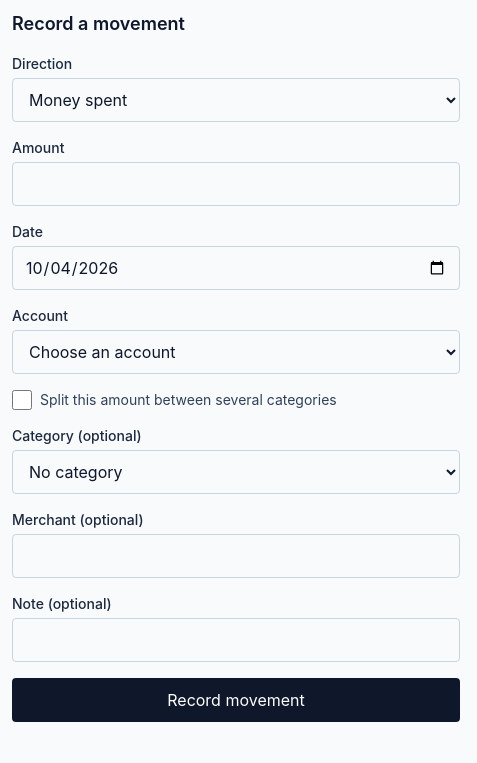
Scenario: TransactionForm › refuses money that is not money, and sends nothing
This screenshot has width=477, height=763.
In the field labelled "Amount": (236, 184) [12,162,460,206], type "abc"
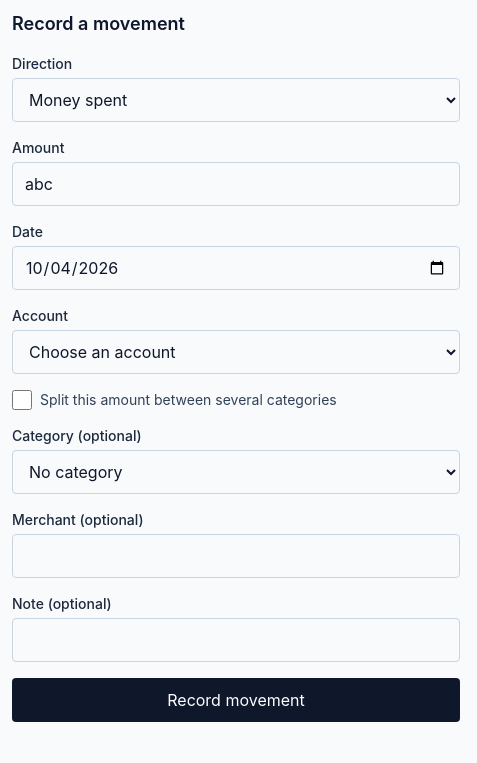
Select "SBI" in the dropdown labelled "Account": (236, 352) [12,330,460,374]
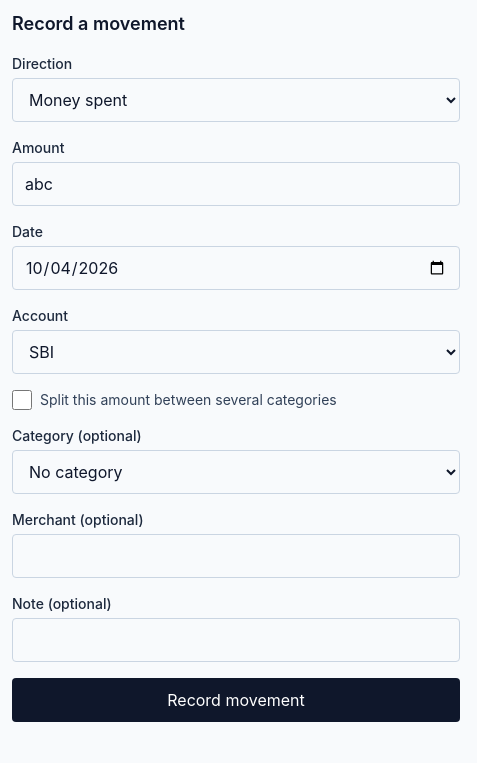
Click the button "Record movement": (236, 700) [12,678,460,722]
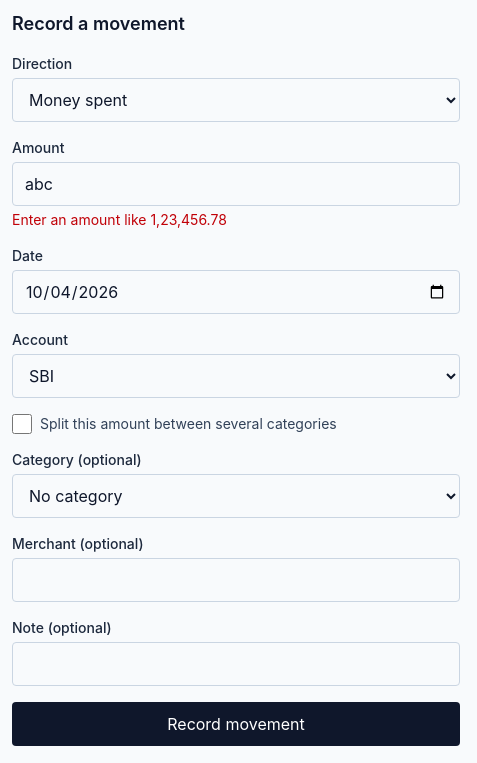
Now the text "Enter an amount like 1,23,456.78" is shown, box [12,211,227,228]
